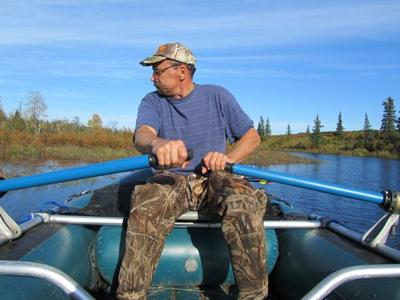person: (114, 42, 271, 300)
